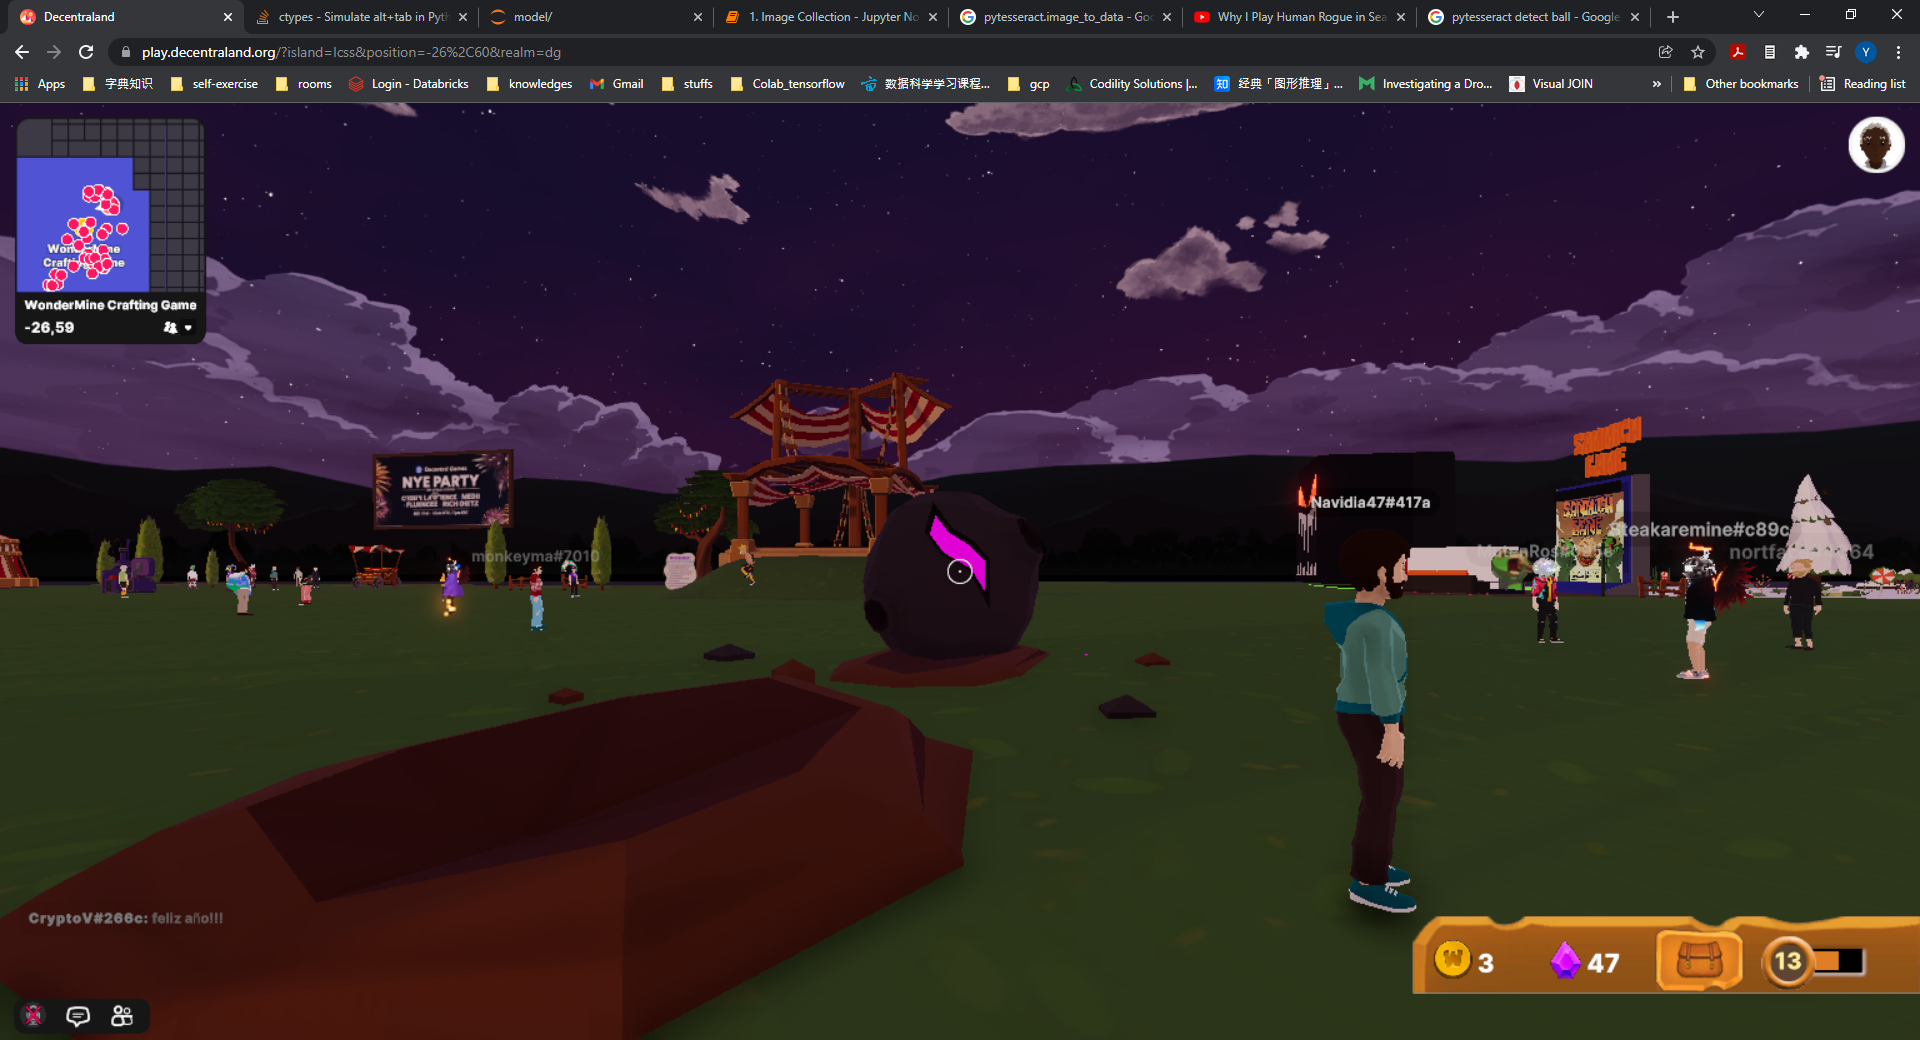black_ball: (867, 491, 1047, 665)
